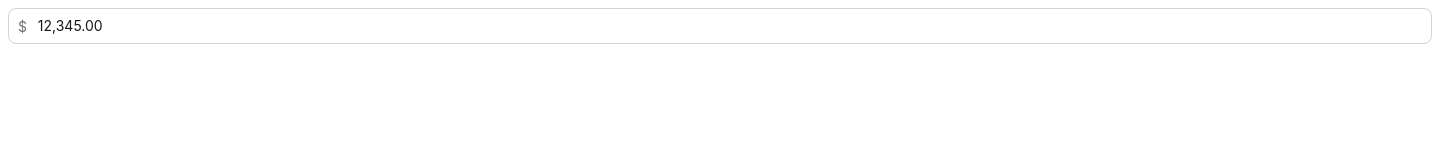
Test: NumberInput › keeps the caret on the same digit when typing in the middle
Click the field named "Amount": x=720, y=26 [8,8,1432,44]
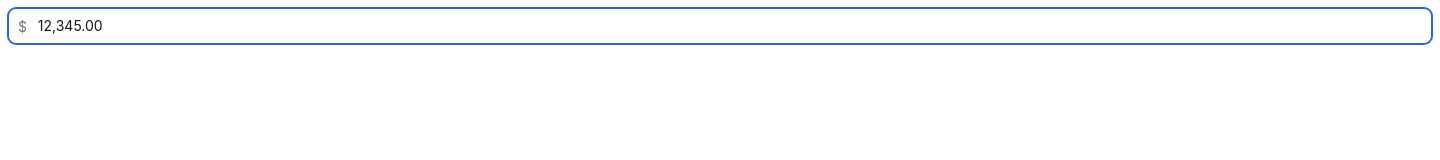
Type keys "9"
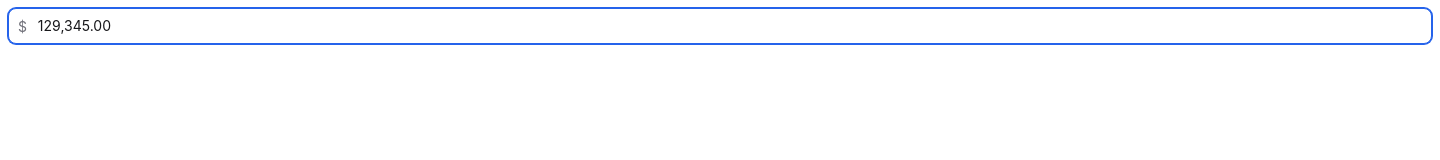
expect the field named "Amount" holds "129,345.00": met, box [8,8,1432,44]
